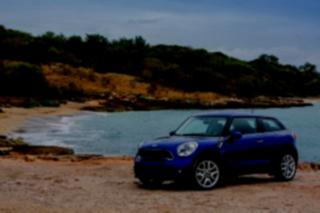mini: (148, 140, 161, 155)
